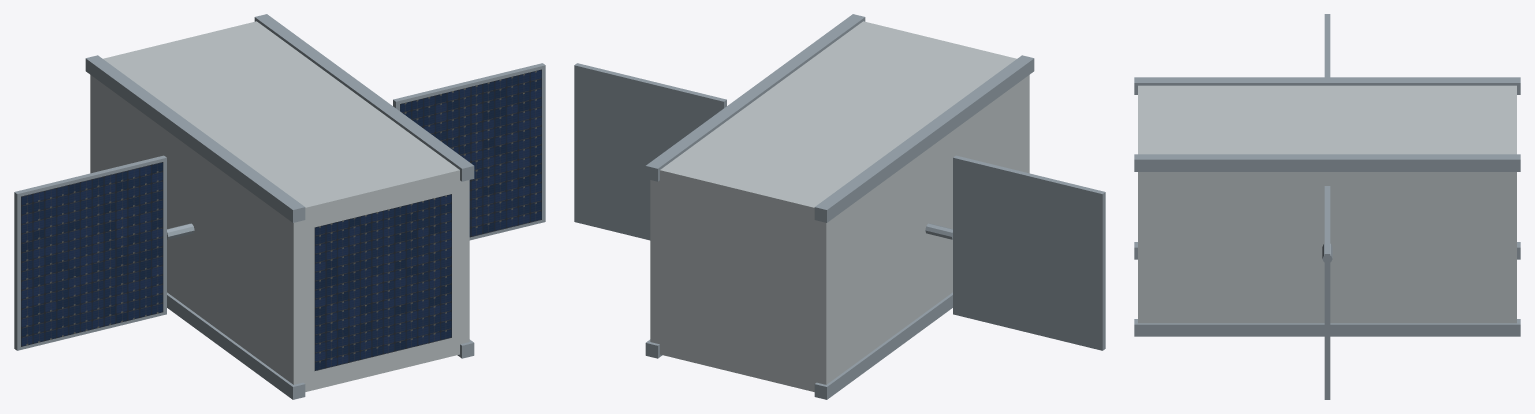
The model's file is ref-cubesat-16u-51060.glb.
3 views of the same model, side by side, from view 1: azimuth 30°, elevation 25°; view 2: azimuth 150°, elevation 25°; view 3: azimuth 270°, elevation 25° (orthographic). The views are drawn at different scales.
Visible parts, largest first — view 1: Spacecraft body, Photovoltaic laminates (×2), Body-mounted cells, Dispenser rail (×3), Array frame (×2); view 2: Spacecraft body, Array frame (×2), Dispenser rail (×3); view 3: Spacecraft body, Dispenser rail (×3), Array frame (×2).
Part boxes in pixels (bbox=[...]): Spacecraft body: bbox=[90, 21, 469, 391]; Photovoltaic laminates (×2): bbox=[21, 69, 541, 346]; Body-mounted cells: bbox=[314, 194, 451, 370]; Dispenser rail (×3): bbox=[85, 14, 474, 399]; Array frame (×2): bbox=[14, 63, 545, 350]; Spacecraft body: bbox=[650, 21, 1029, 391]; Array frame (×2): bbox=[574, 63, 1105, 350]; Dispenser rail (×3): bbox=[645, 14, 1034, 399]; Spacecraft body: bbox=[1138, 85, 1516, 323]; Dispenser rail (×3): bbox=[1134, 77, 1520, 336]; Array frame (×2): bbox=[1324, 14, 1330, 399].
Size of the model in its own units: 0.6 by 0.206 by 0.408.
3 materials, 1 textured.
